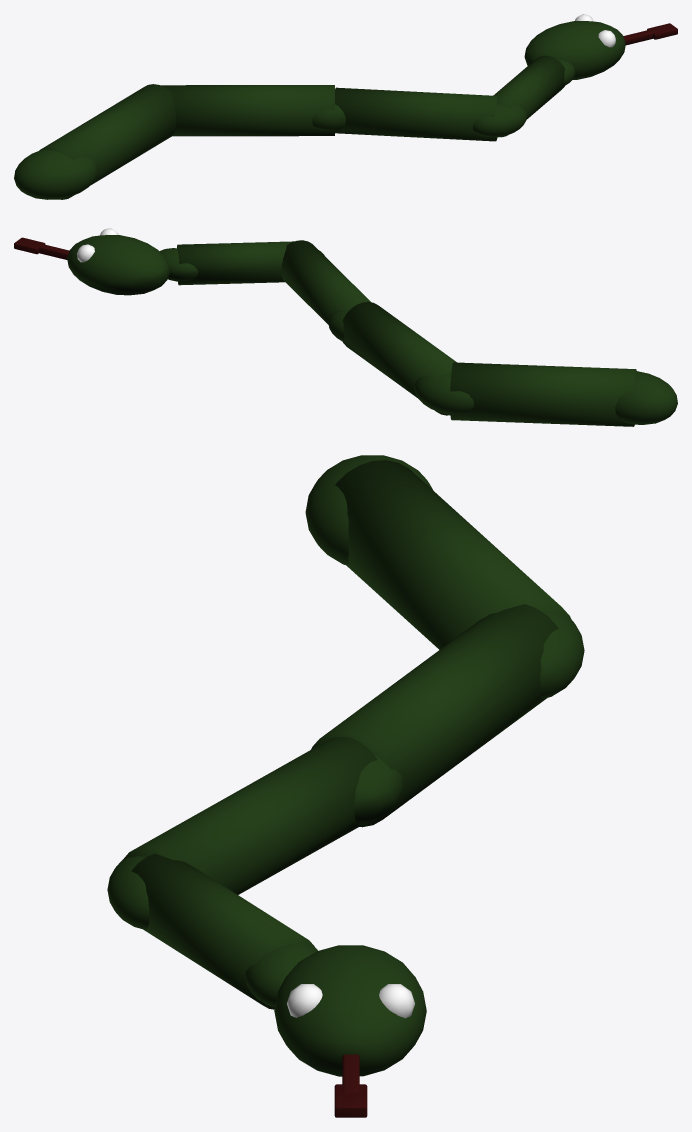
The model's file is snake.obj.
3 renders of one model, top to bottom at view 1: azimuth 30°, elevation 25°; view 2: azimuth 150°, elevation 25°; view 3: azimuth 270°, elevation 25°, orthographic. The views are drawn at different scales.
Parts seen in each view (by area): view 1: snake; view 2: snake; view 3: snake.
Boxes of the visible parts, x1,y1,x2,y2 form: snake: (14,14,677,199); snake: (14,228,677,426); snake: (107,455,584,1117).
Bounding box in the file's own units: 1.38 × 0.1048 × 0.4384.
